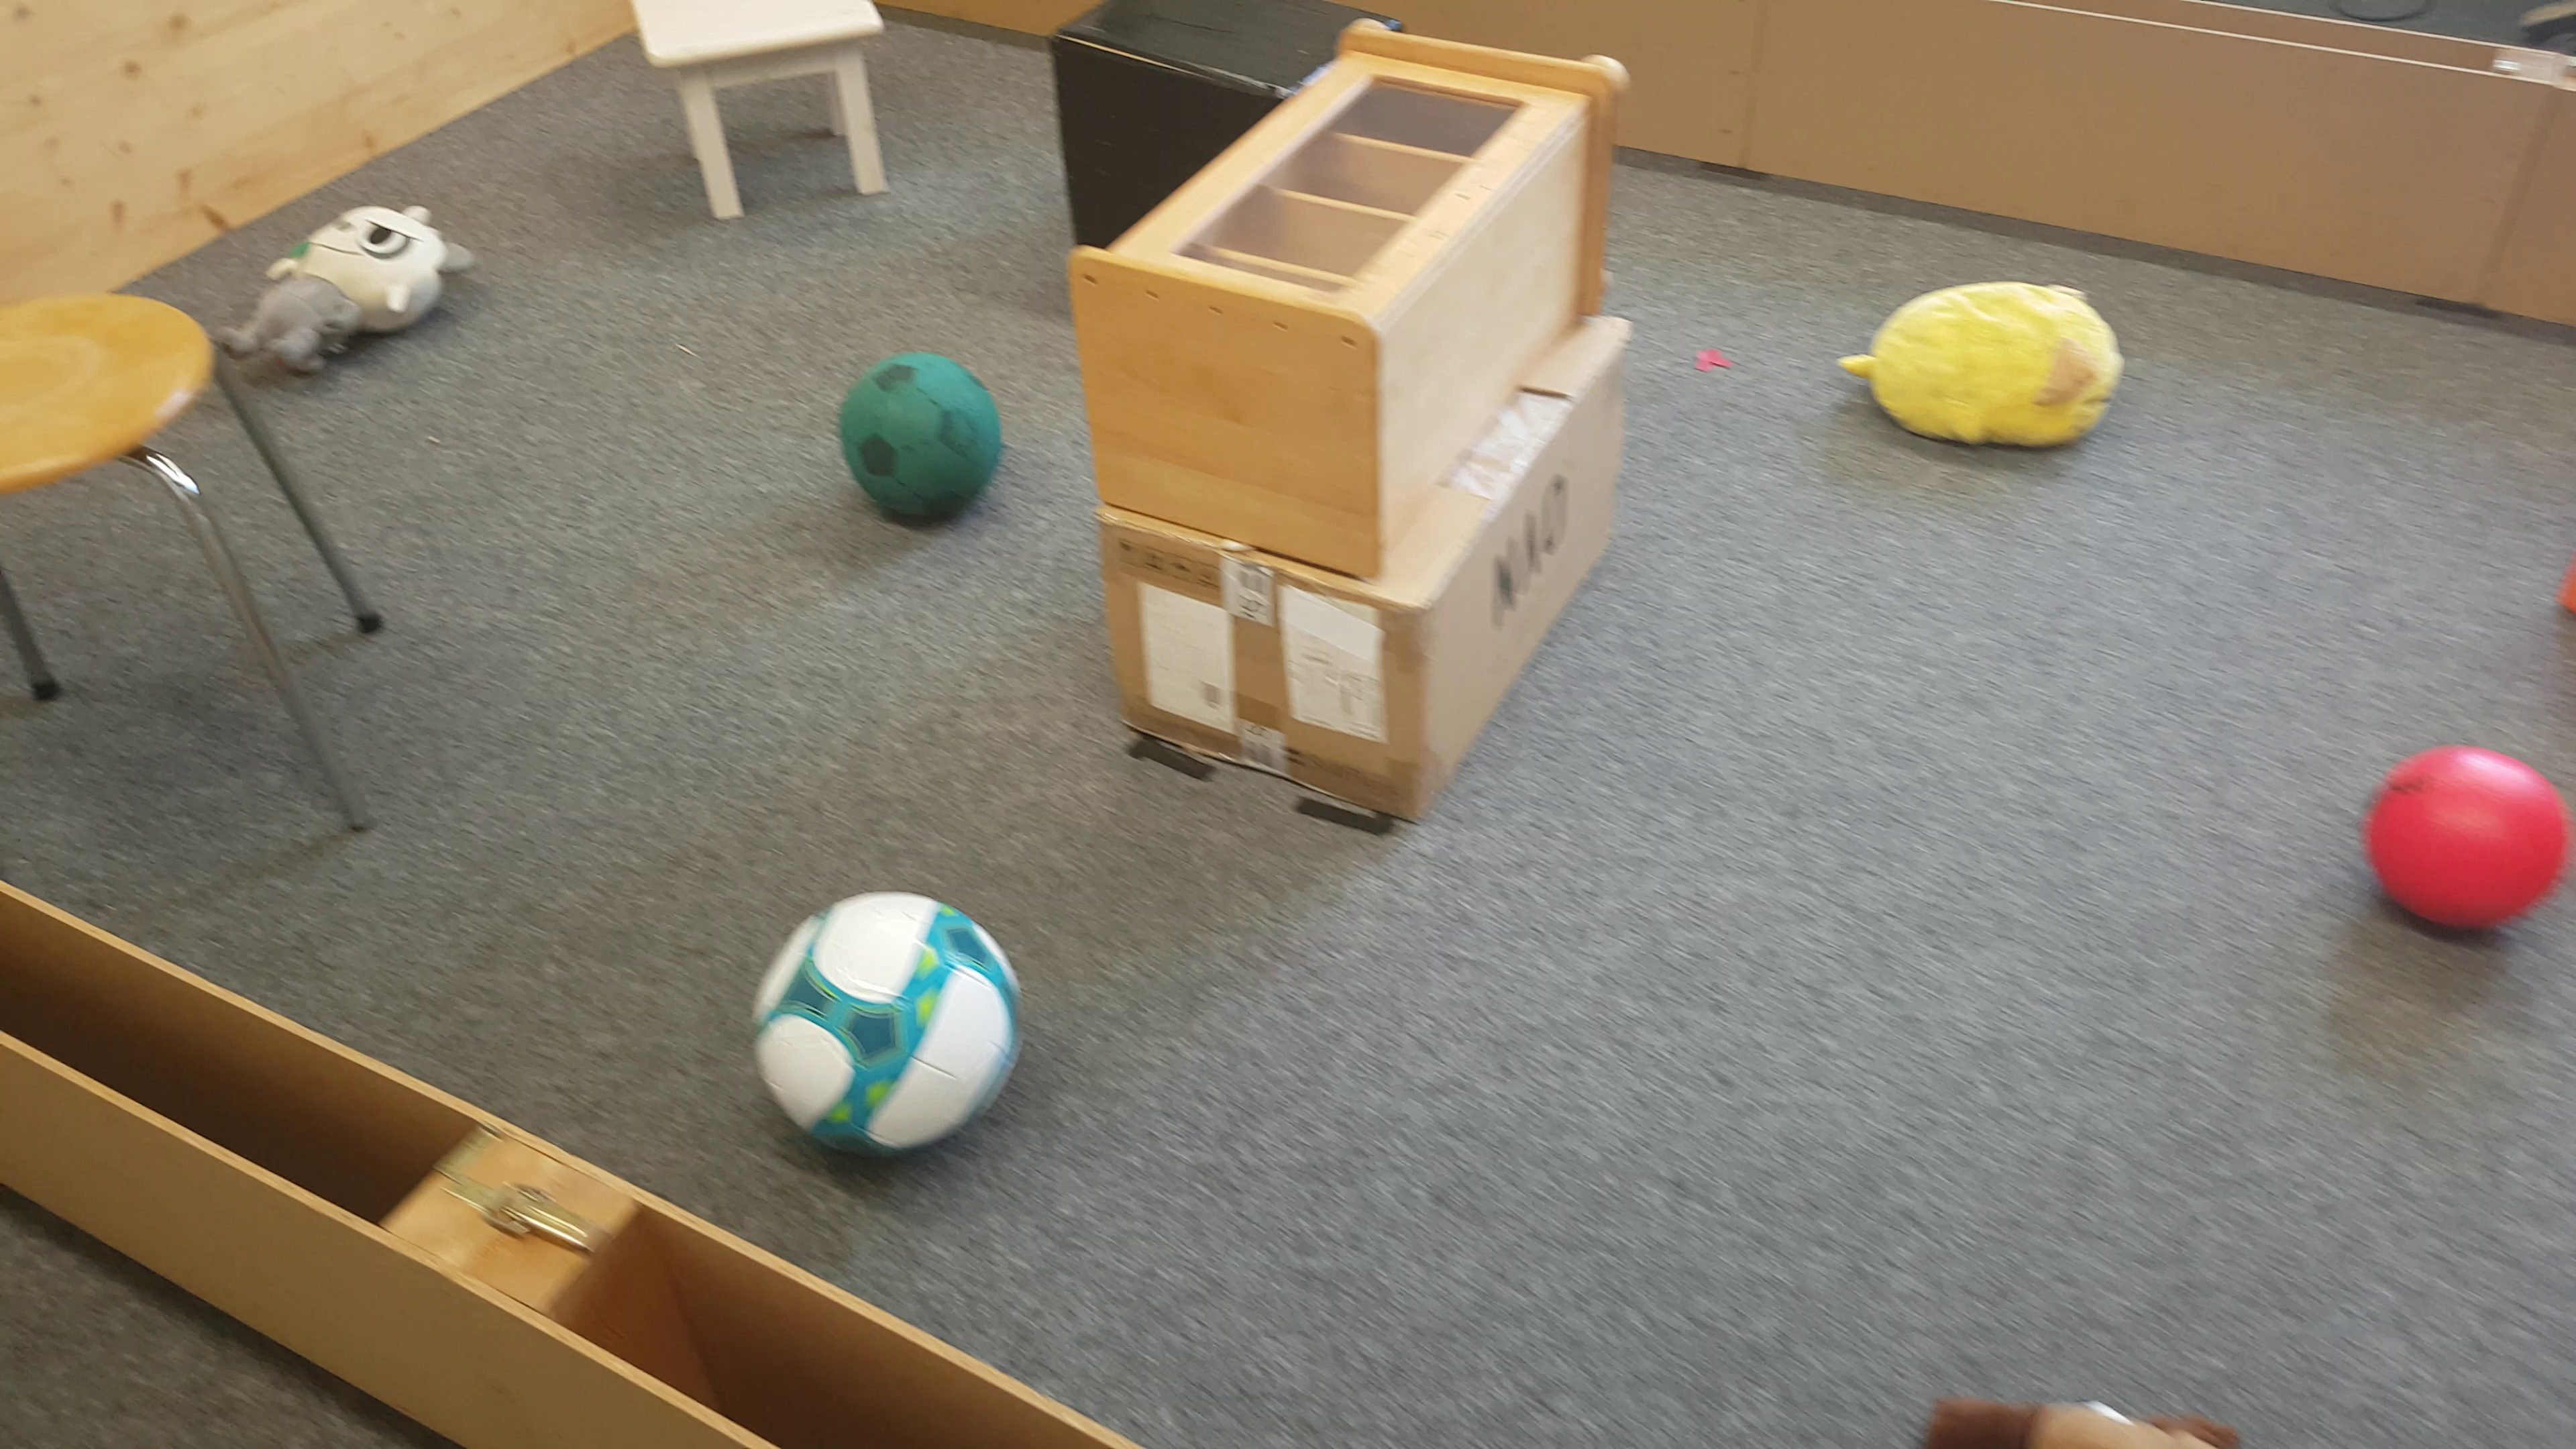grasp: (1836, 278, 2121, 448), (218, 202, 471, 373), (1921, 1394, 2231, 1449)
kick: (752, 886, 1023, 1161), (2365, 743, 2567, 941), (839, 352, 1001, 525)
push: (1054, 12, 1283, 104)
